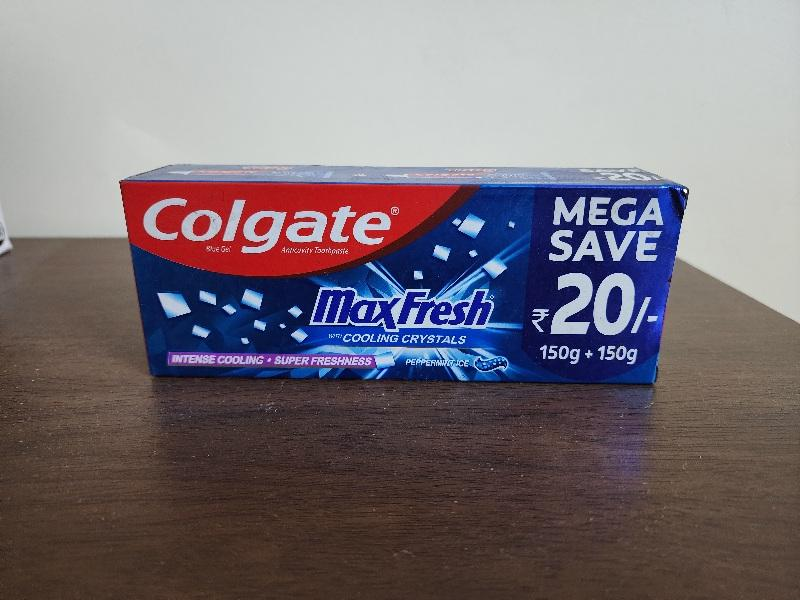Colgate: (113, 163, 691, 388)
